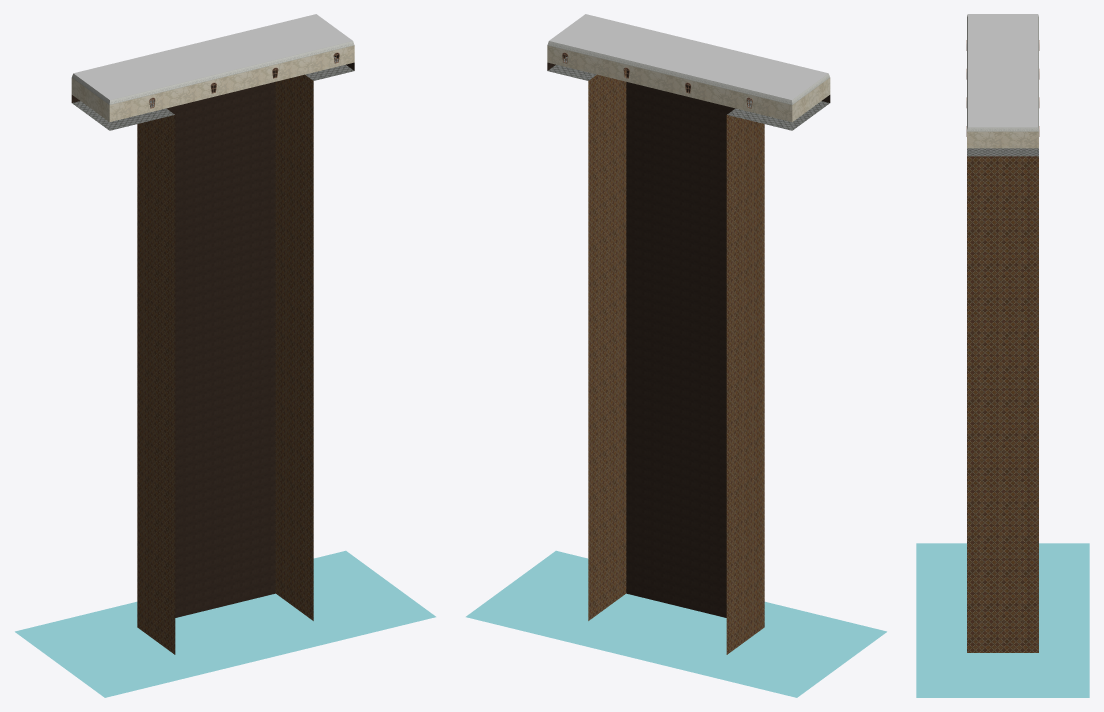
File: Map2New.obj
The picture shows the model from 3 angles, left to right: view 1: azimuth 30°, elevation 25°; view 2: azimuth 150°, elevation 25°; view 3: azimuth 270°, elevation 25°; orthographic projection. The views are drawn at different scales.
Size of the model in its own units: 80.96 by 133 by 38.33.
